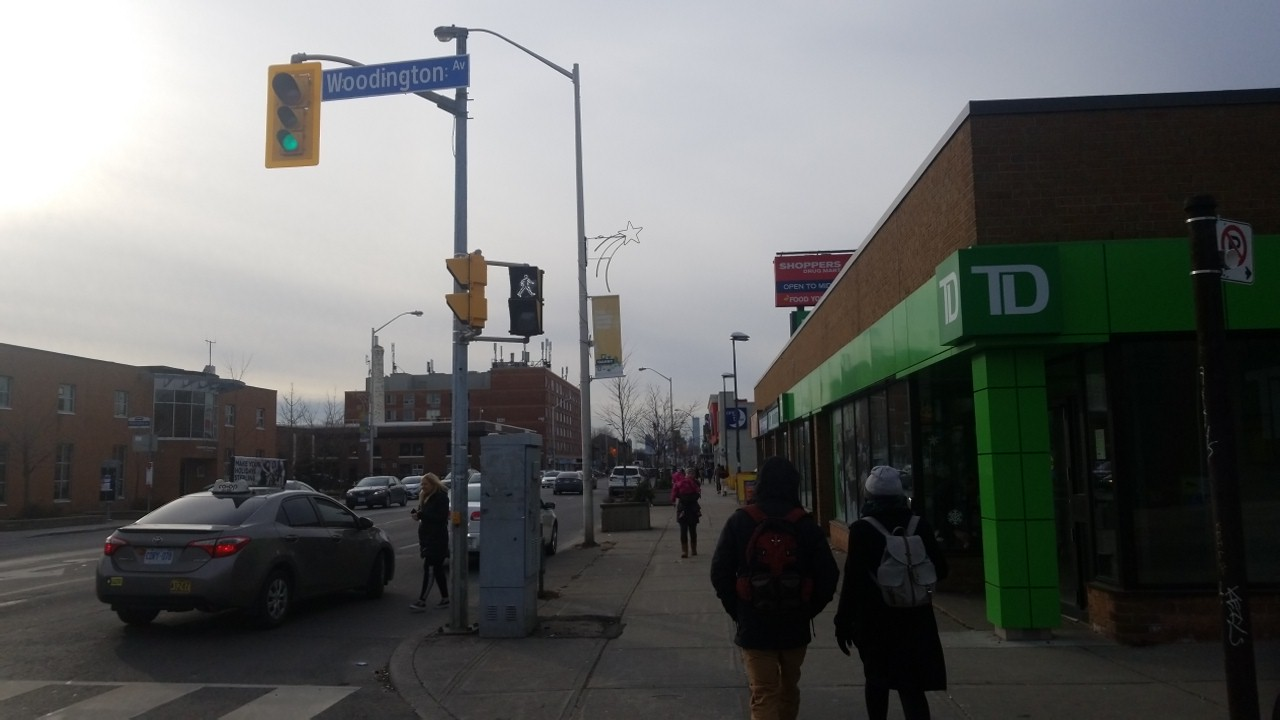light: (502, 258, 547, 342)
